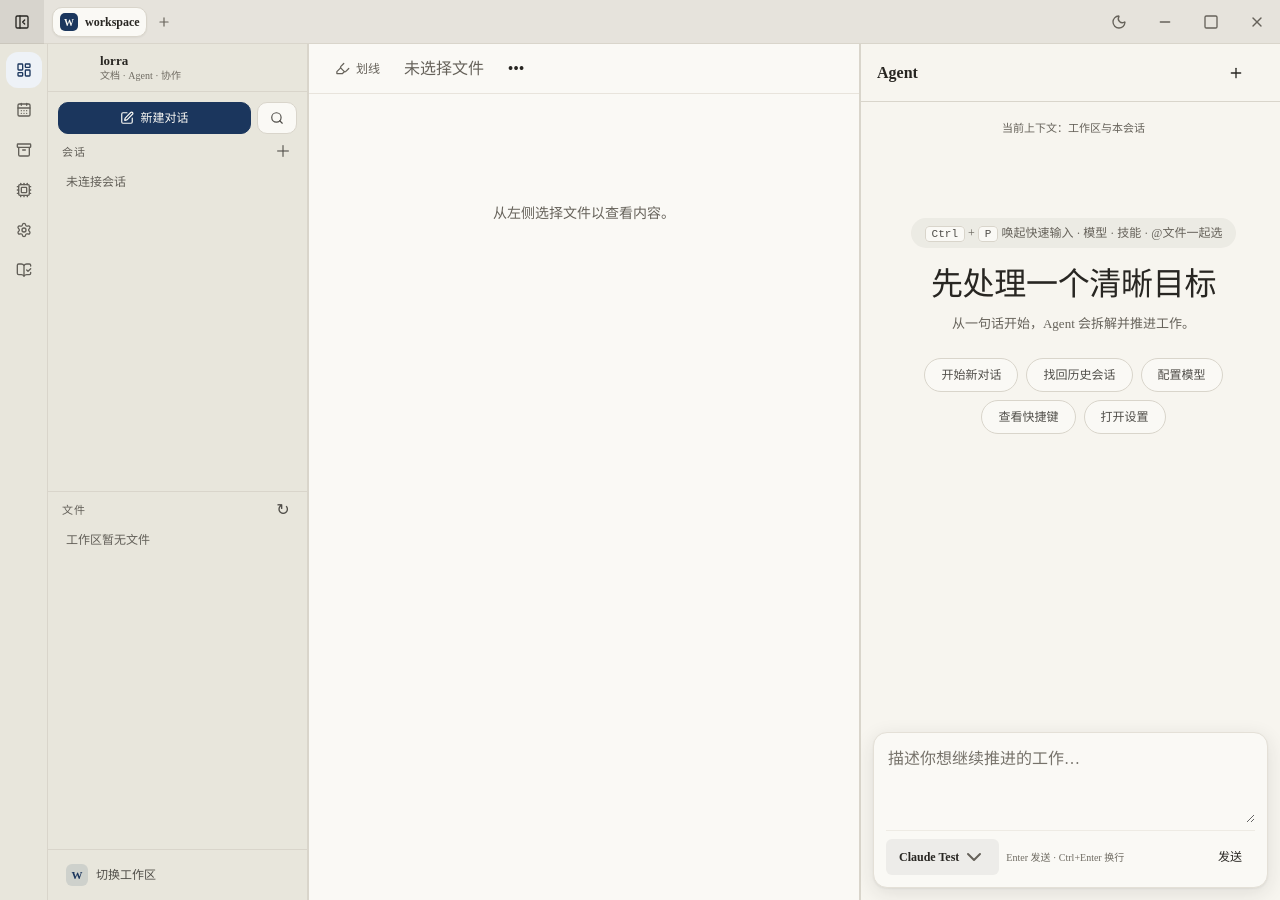
Test case: Requirement: 今日页导航(app-shell spec) › Scenario 从图标栏进入今日页:点击第 2 位今日入口 → 今日整页,工作区 tab 条不渲染
This screenshot has width=1280, height=900.
expect the element named "Agent 对话" is shown: met, box [860,44,1279,899]
What coordinates should you click on to do the following:
click the button named "今日"
I would click on:
 (24, 110)
Its box is [6,92,42,128].
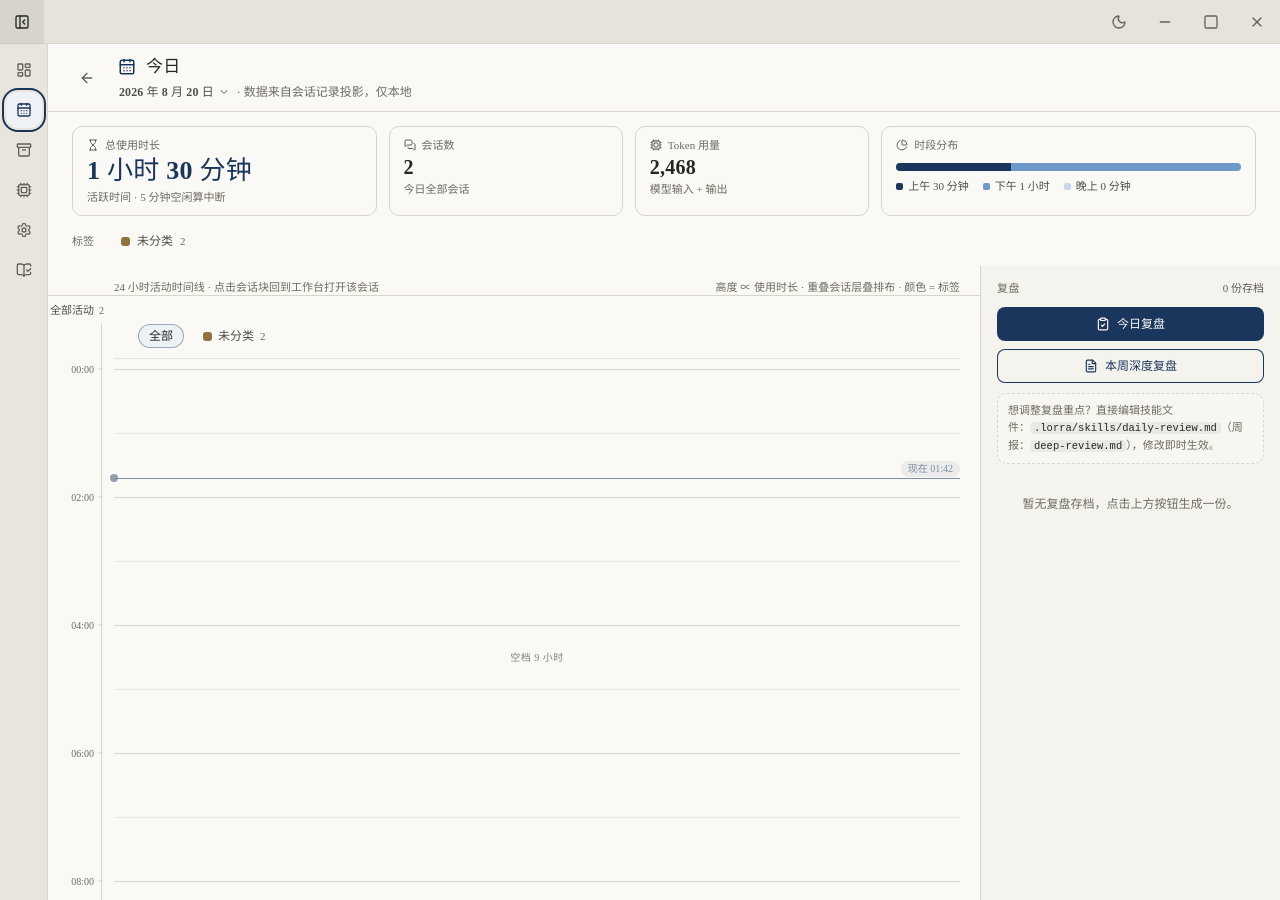
expect the element with test id "today-page" is shown: met
expect the text "工作区" is gone: met
